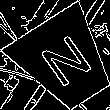N_SE: (33, 29, 97, 93)
